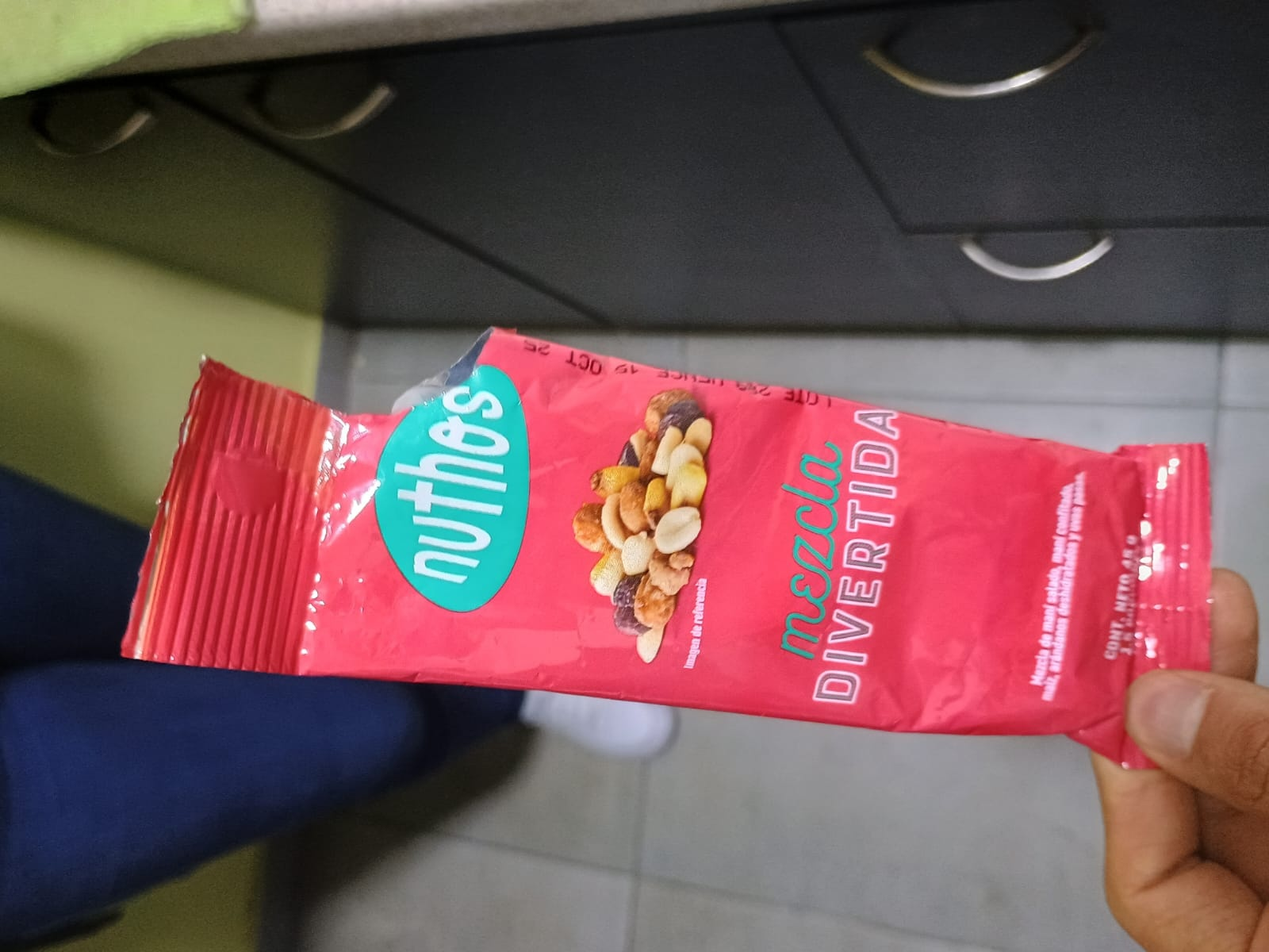Ordinario: (121, 325, 1212, 769)
